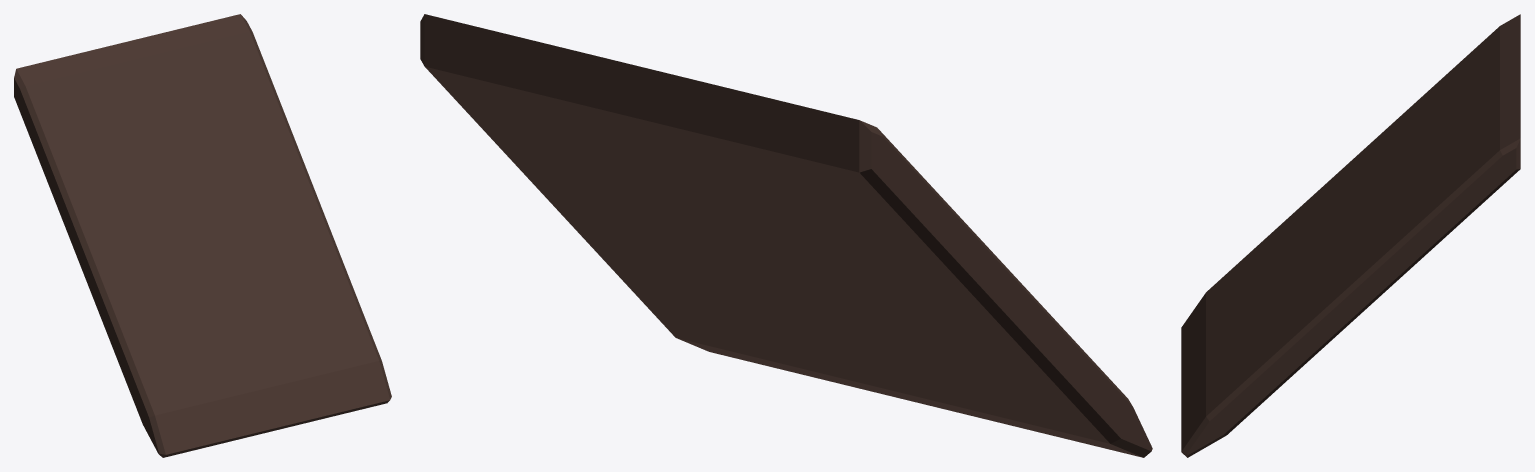
File: 2x2x2Roof.fbx
3 renders of one model, left to right at view 1: azimuth 30°, elevation 25°; view 2: azimuth 150°, elevation 25°; view 3: azimuth 270°, elevation 25°, orthographic. The views are drawn at different scales.
Visible parts, largest first — view 1: 2x2x2Roof; view 2: 2x2x2Roof; view 3: 2x2x2Roof.
Boxes of the visible parts, x1=… form: 2x2x2Roof: x1=14, y1=14, x2=391, y2=457; 2x2x2Roof: x1=420, y1=14, x2=1152, y2=457; 2x2x2Roof: x1=1181, y1=14, x2=1520, y2=457.
Bounding box in the file's own units: 208 × 240 × 231.
